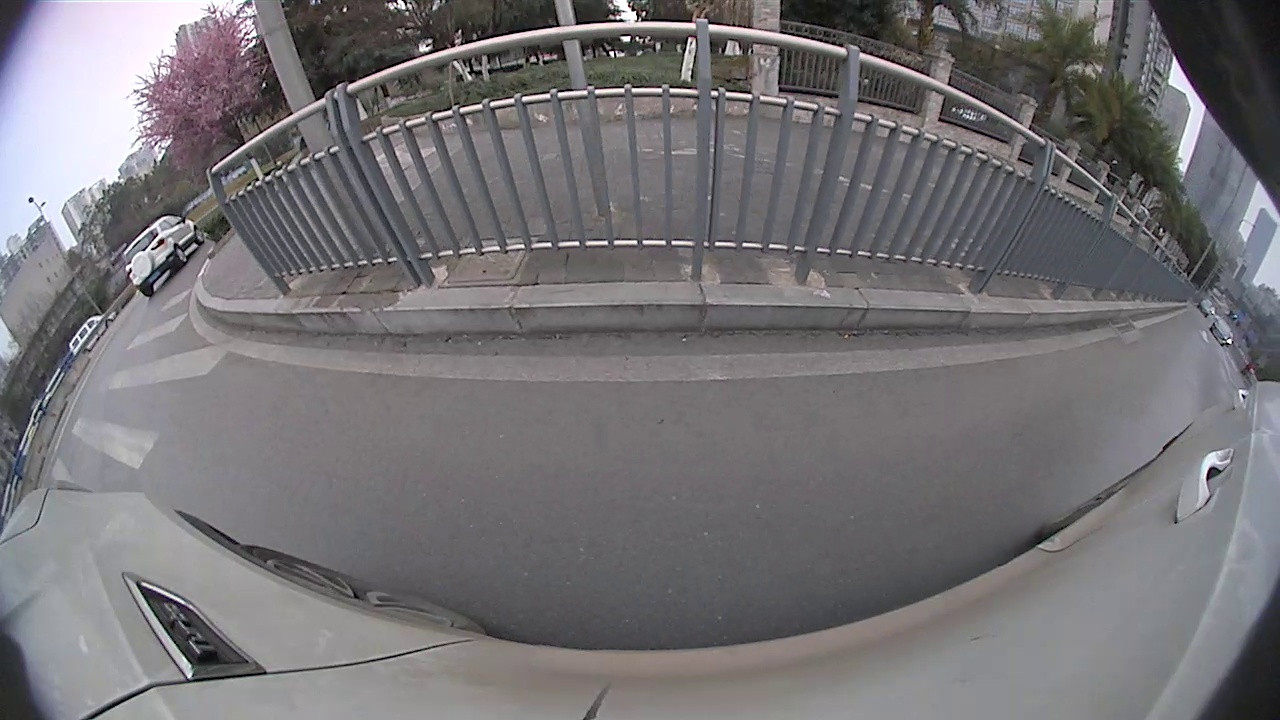car: (958, 182, 1146, 334), (208, 133, 289, 197), (162, 152, 234, 213), (16, 290, 53, 343), (52, 257, 86, 303)
front: (959, 199, 982, 232), (233, 169, 250, 186)
rear: (1027, 260, 1063, 303), (278, 145, 291, 163)
